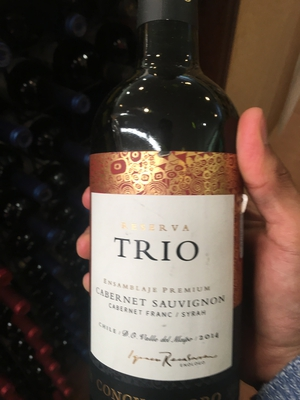trio cabernet sauvignon: (84, 23, 266, 400)
